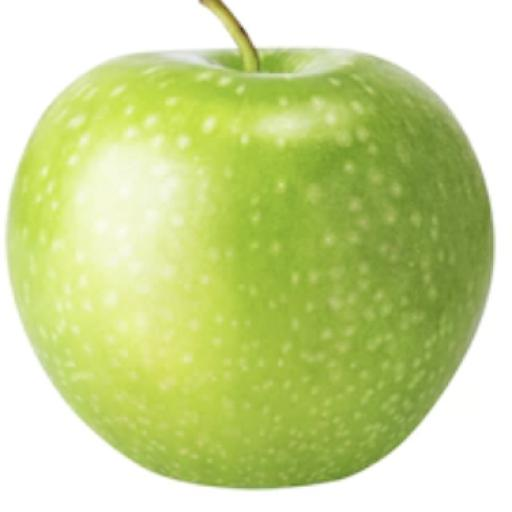apple: (9, 2, 492, 486)
